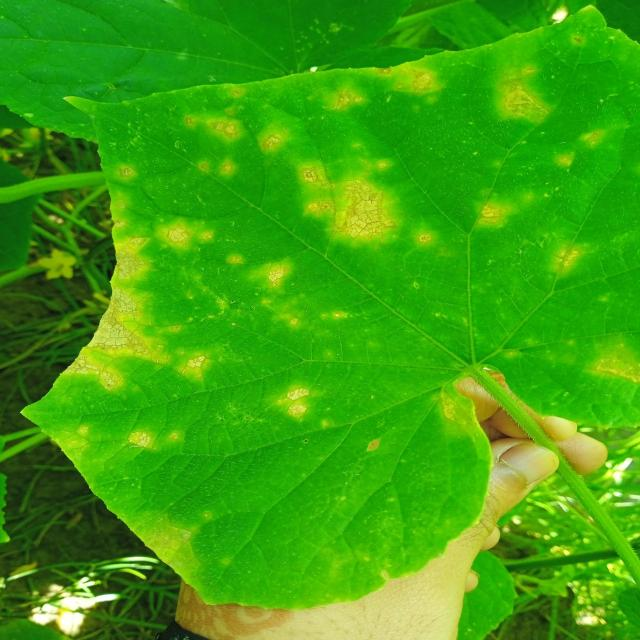cucumber_downy: (23, 36, 640, 563)
